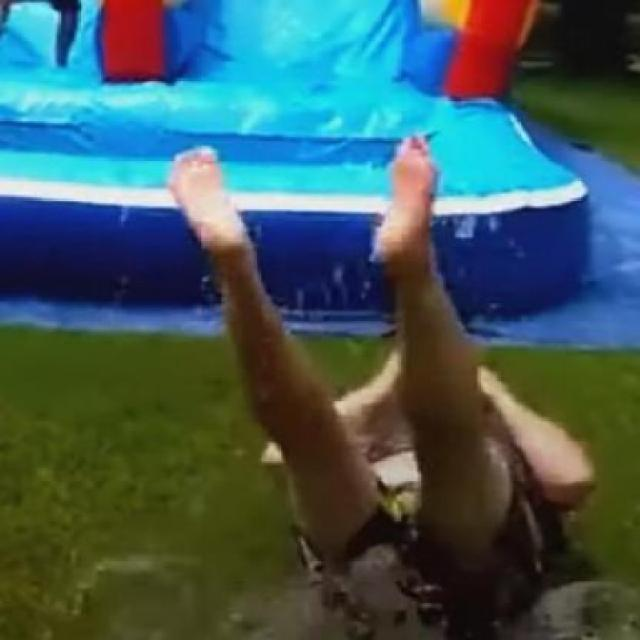fall: (173, 136, 593, 624)
